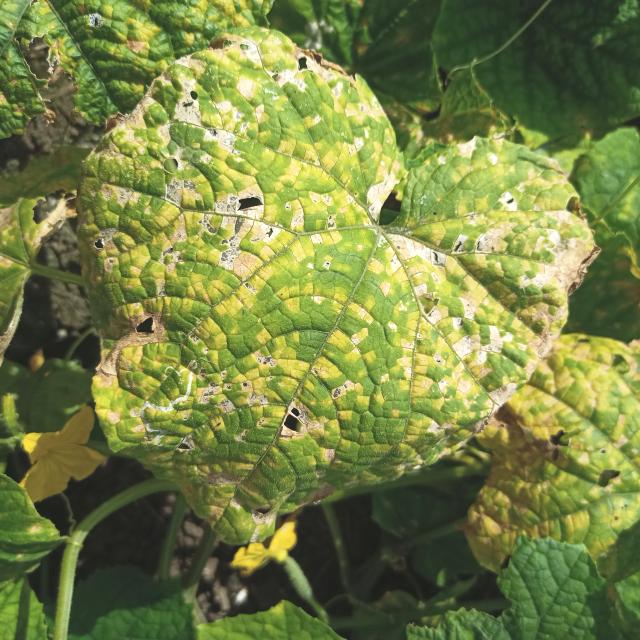disease_cucumber: (84, 52, 566, 525), (471, 340, 640, 574)
